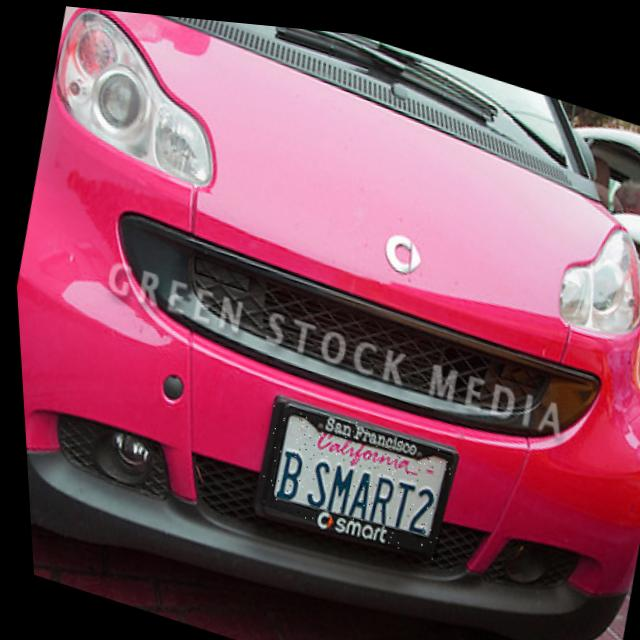license_plate: (245, 387, 455, 555)
